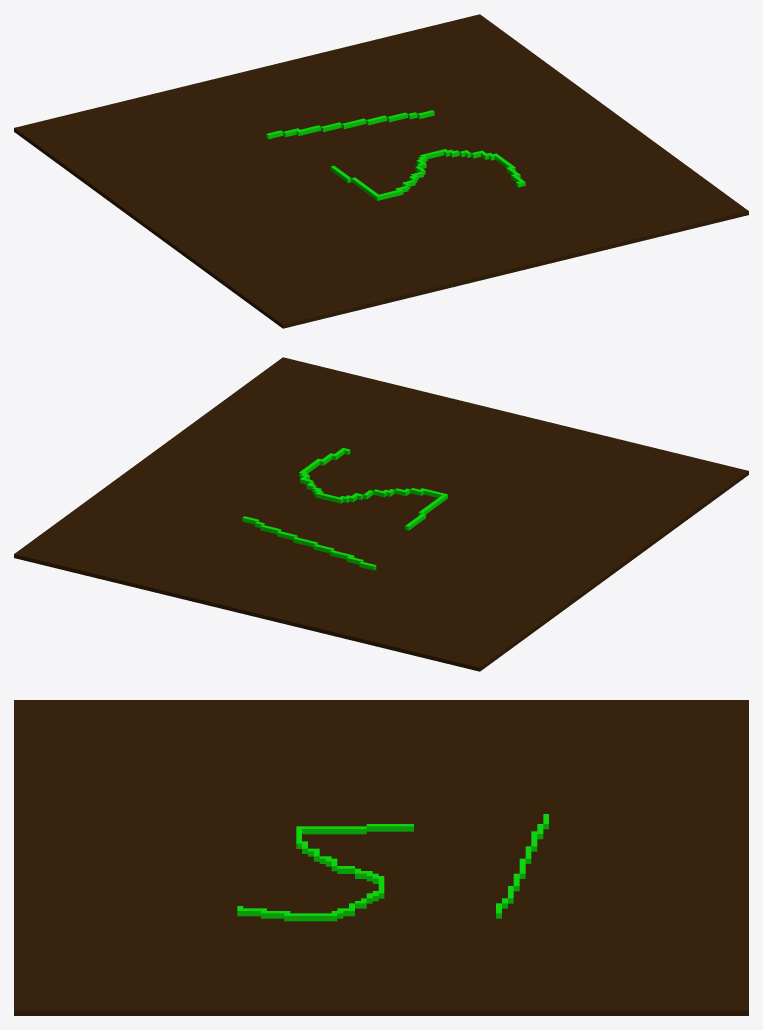
The model's file is newPrototypeLevel-14.obj.
3 renders of one model, top to bottom at view 1: azimuth 30°, elevation 25°; view 2: azimuth 150°, elevation 25°; view 3: azimuth 270°, elevation 25°, orthographic. The views are drawn at different scales.
Visible parts, largest first — view 1: newPrototypeLevel-14; view 2: newPrototypeLevel-14; view 3: newPrototypeLevel-14.
Part boxes in pixels (left/top/right/bottom): newPrototypeLevel-14: left=14, top=14, right=748, bottom=328; newPrototypeLevel-14: left=14, top=357, right=748, bottom=671; newPrototypeLevel-14: left=14, top=700, right=748, bottom=1015.
Size of the model in its own units: 125 by 2 by 125.
1 material, 1 textured.
